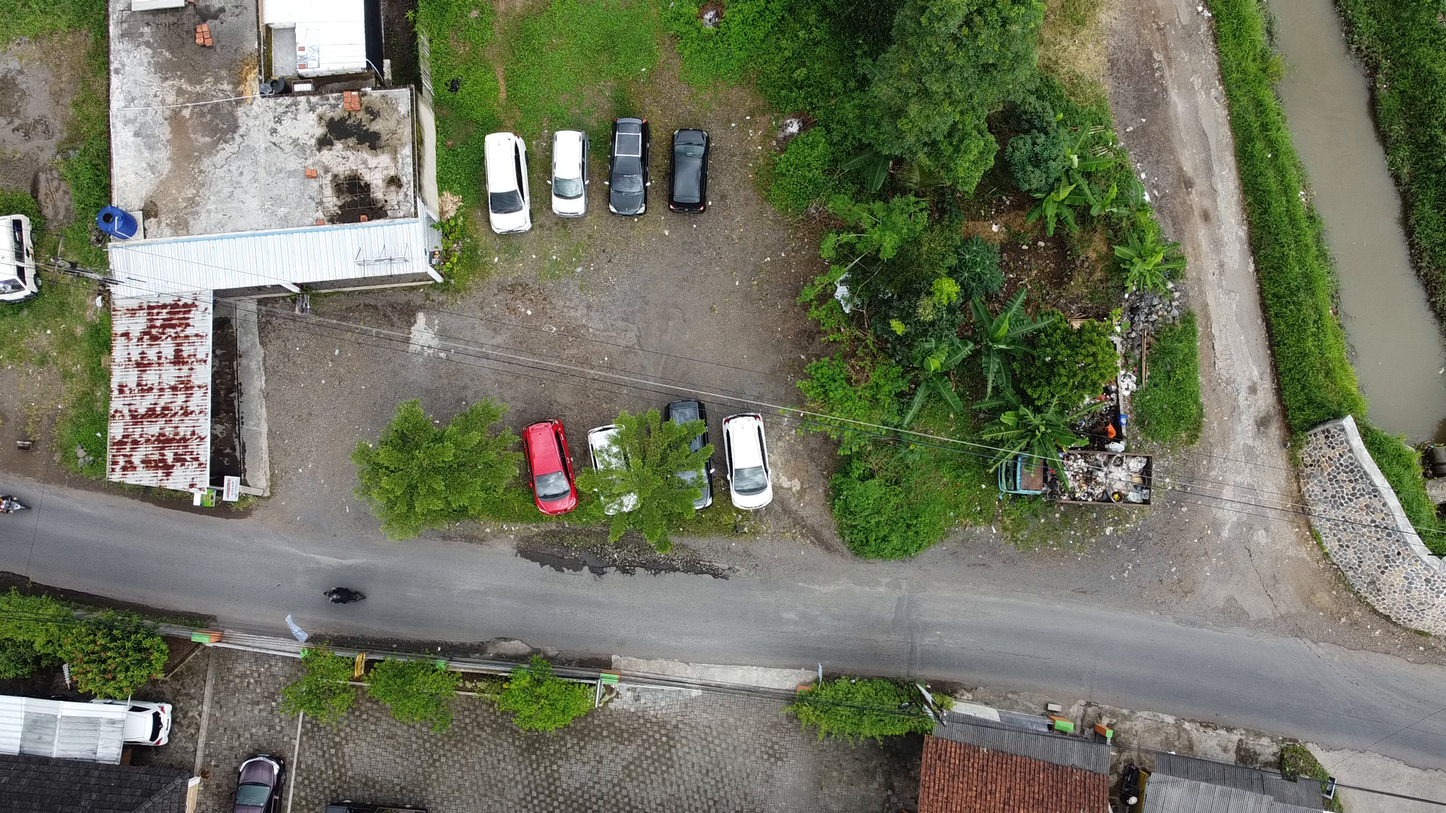mobil: (1325, 466, 1429, 524), (36, 610, 145, 655), (706, 534, 801, 581), (1212, 480, 1307, 526), (1086, 494, 1179, 538), (926, 330, 1016, 375), (724, 306, 810, 352), (455, 239, 539, 285), (261, 356, 348, 400), (124, 370, 207, 415), (24, 382, 108, 426), (1241, 250, 1325, 294), (361, 343, 449, 385), (1158, 257, 1236, 304), (847, 294, 929, 338), (676, 221, 756, 266), (599, 550, 686, 591), (983, 507, 1059, 551), (612, 325, 695, 365), (932, 108, 1009, 151), (1215, 163, 1289, 207), (505, 151, 584, 192), (1153, 93, 1233, 133), (512, 328, 588, 370), (264, 266, 337, 309), (965, 282, 1039, 323), (865, 516, 947, 551), (198, 601, 271, 632), (318, 586, 371, 617), (1014, 186, 1051, 227), (514, 565, 558, 598), (1, 392, 16, 433), (1432, 461, 1446, 495)
